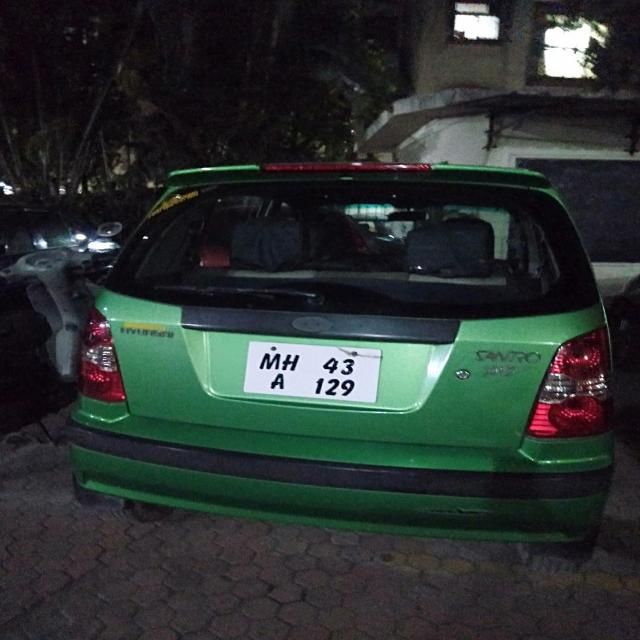Number-Plate: (245, 345, 384, 398)
